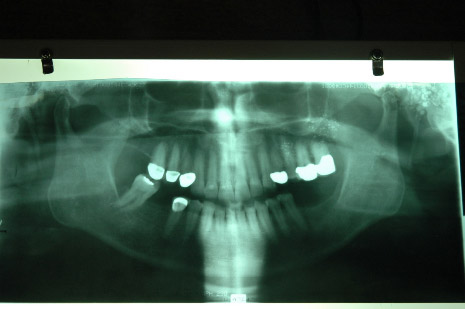incisor: (232, 144, 251, 201), (218, 142, 235, 199), (248, 146, 263, 198), (205, 142, 217, 200), (215, 204, 227, 243), (245, 204, 256, 244), (228, 204, 236, 244), (237, 205, 245, 243)
molar: (113, 172, 158, 218)
